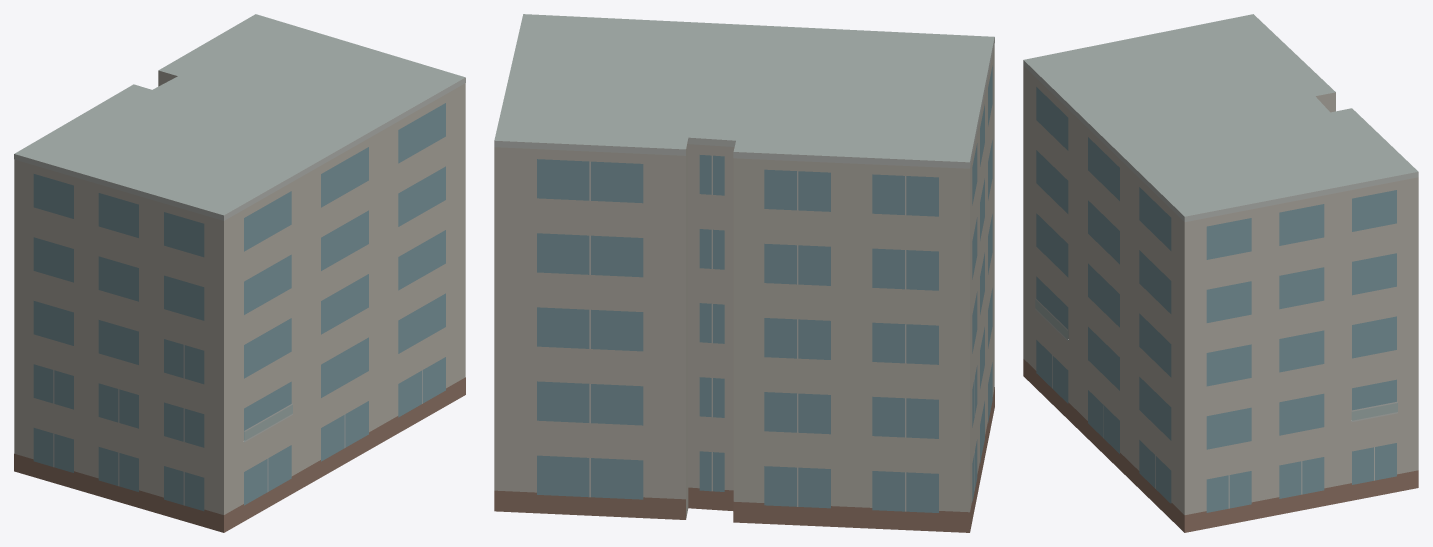
The model's file is survey-upis-32598928.glb.
3 views of the same model, side by side, from view 1: azimuth 30°, elevation 25°; view 2: azimuth 150°, elevation 25°; view 3: azimuth 270°, elevation 25° (orthographic). The views are drawn at different scales.
Visible parts, largest first — view 1: survey-upis-32598928.tmp; view 2: survey-upis-32598928.tmp; view 3: survey-upis-32598928.tmp.
Boxes of the visible parts, <box> form: survey-upis-32598928.tmp: <box>14,14,465,532</box>; survey-upis-32598928.tmp: <box>494,14,994,532</box>; survey-upis-32598928.tmp: <box>1023,14,1418,532</box>.
Bounding box in the file's own units: 19.26 × 14 × 15.87.
